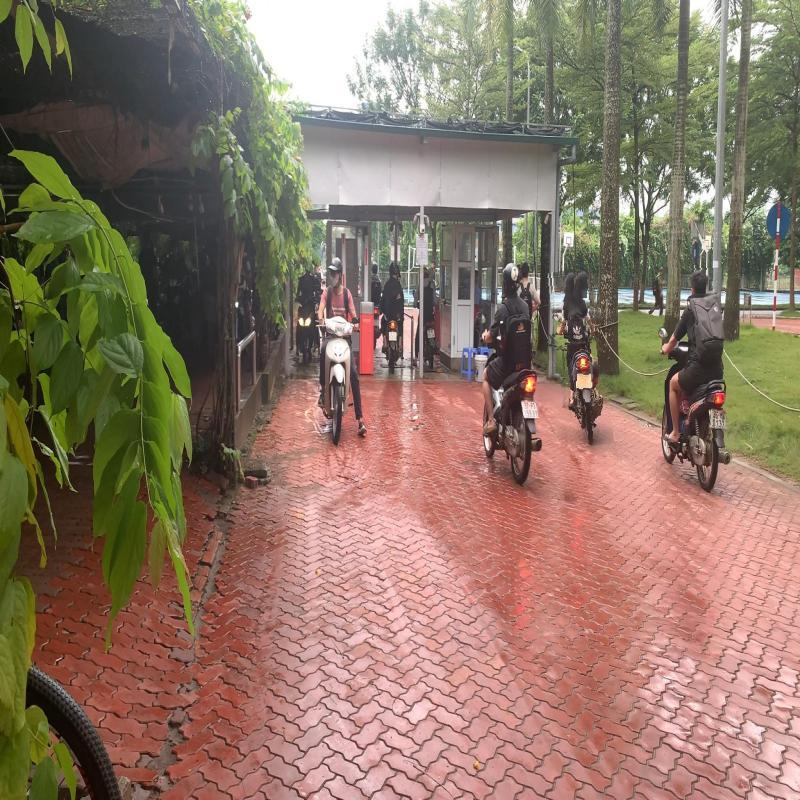licenseplate: (710, 408, 728, 430), (576, 373, 589, 388)
motorcyclist: (656, 268, 734, 494), (553, 268, 609, 447)
nohelmet: (691, 270, 707, 298), (574, 271, 588, 298)
